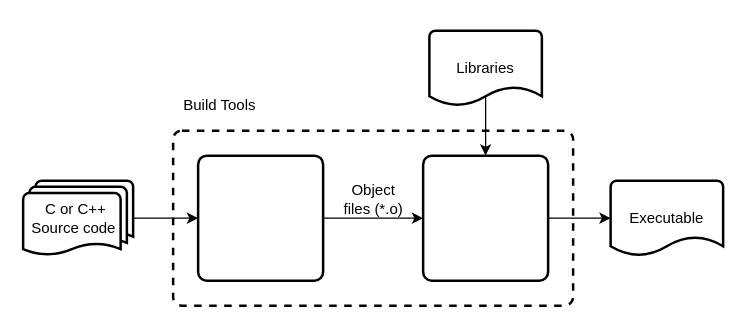
This 745x329 diagram has some shape labels left out. Each missing label, with the box of its shape:
Compiler: (196, 154, 324, 281)
Linker: (421, 154, 549, 281)
